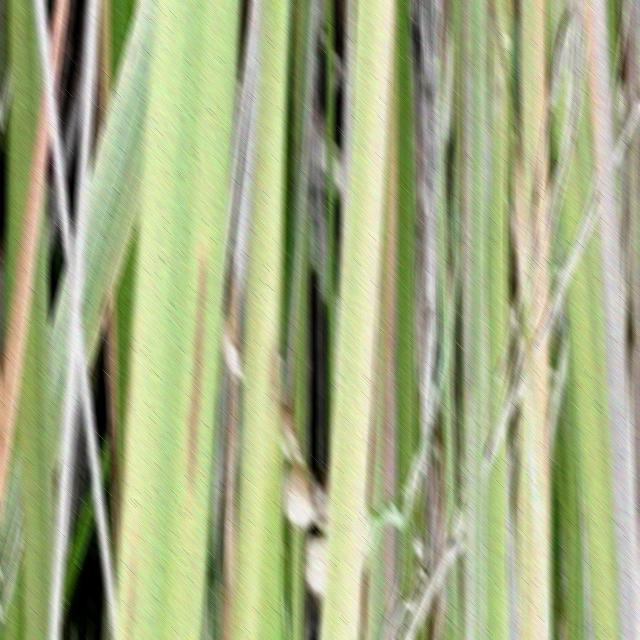NBS: (181, 236, 207, 501), (124, 518, 138, 640)
